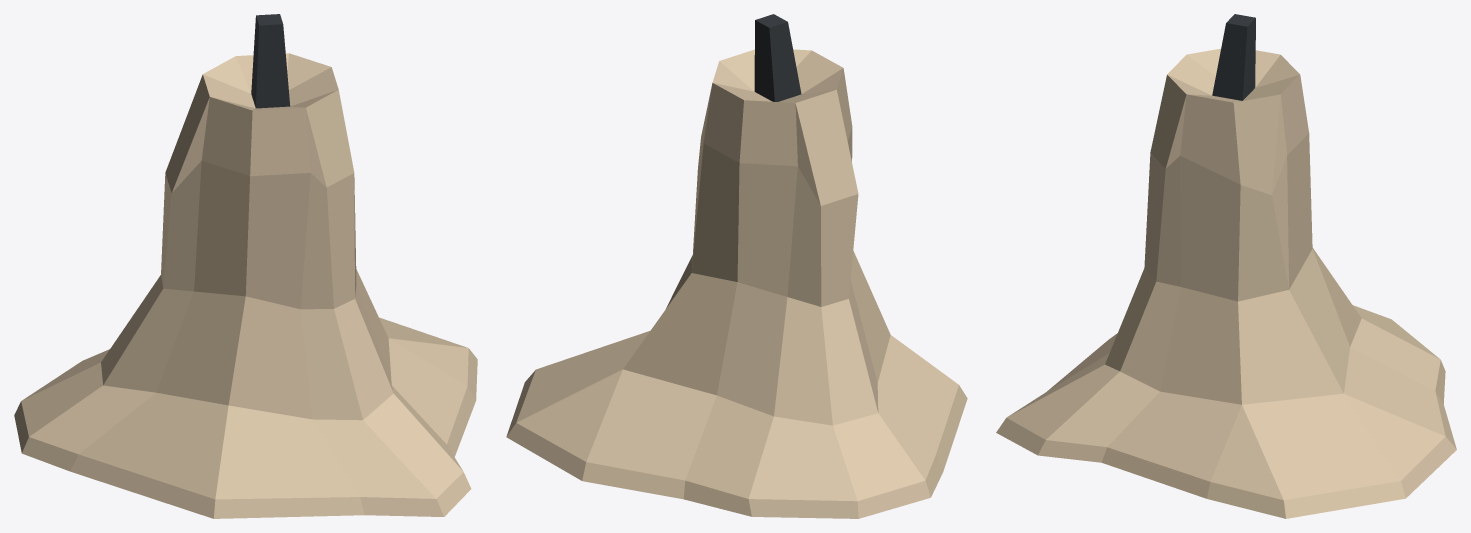
Rendered from SM_Prop_Candle_Melted_01.fbx.
The picture shows the model from 3 angles, left to right: view 1: azimuth 30°, elevation 25°; view 2: azimuth 150°, elevation 25°; view 3: azimuth 270°, elevation 25°; orthographic projection. The views are drawn at different scales.
Parts seen in each view (by area): view 1: SM_Prop_Candle_Melted_01; view 2: SM_Prop_Candle_Melted_01; view 3: SM_Prop_Candle_Melted_01.
Boxes of the visible parts, x1,y1,x2,y2 form: SM_Prop_Candle_Melted_01: [14, 14, 477, 518]; SM_Prop_Candle_Melted_01: [506, 14, 967, 518]; SM_Prop_Candle_Melted_01: [996, 14, 1456, 518].
Bounding box in the file's own units: 0.1856 × 0.1673 × 0.1785.
1 material, 1 textured.
